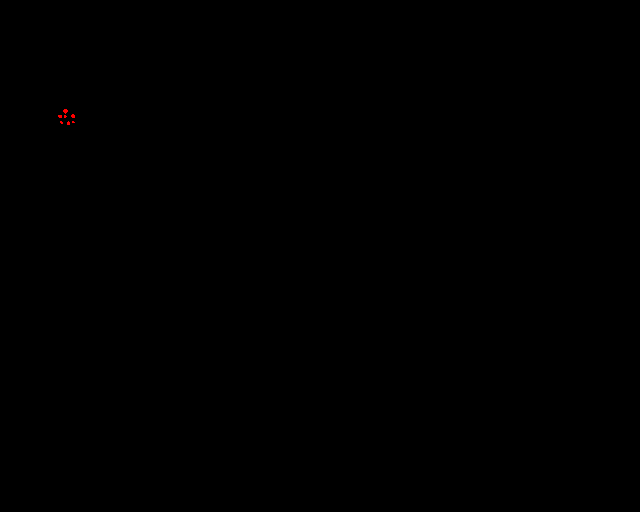Target: (63, 109, 68, 114), (71, 114, 75, 118), (58, 115, 62, 118), (67, 121, 70, 125), (64, 115, 67, 118), (60, 121, 63, 124), (72, 121, 75, 123)
